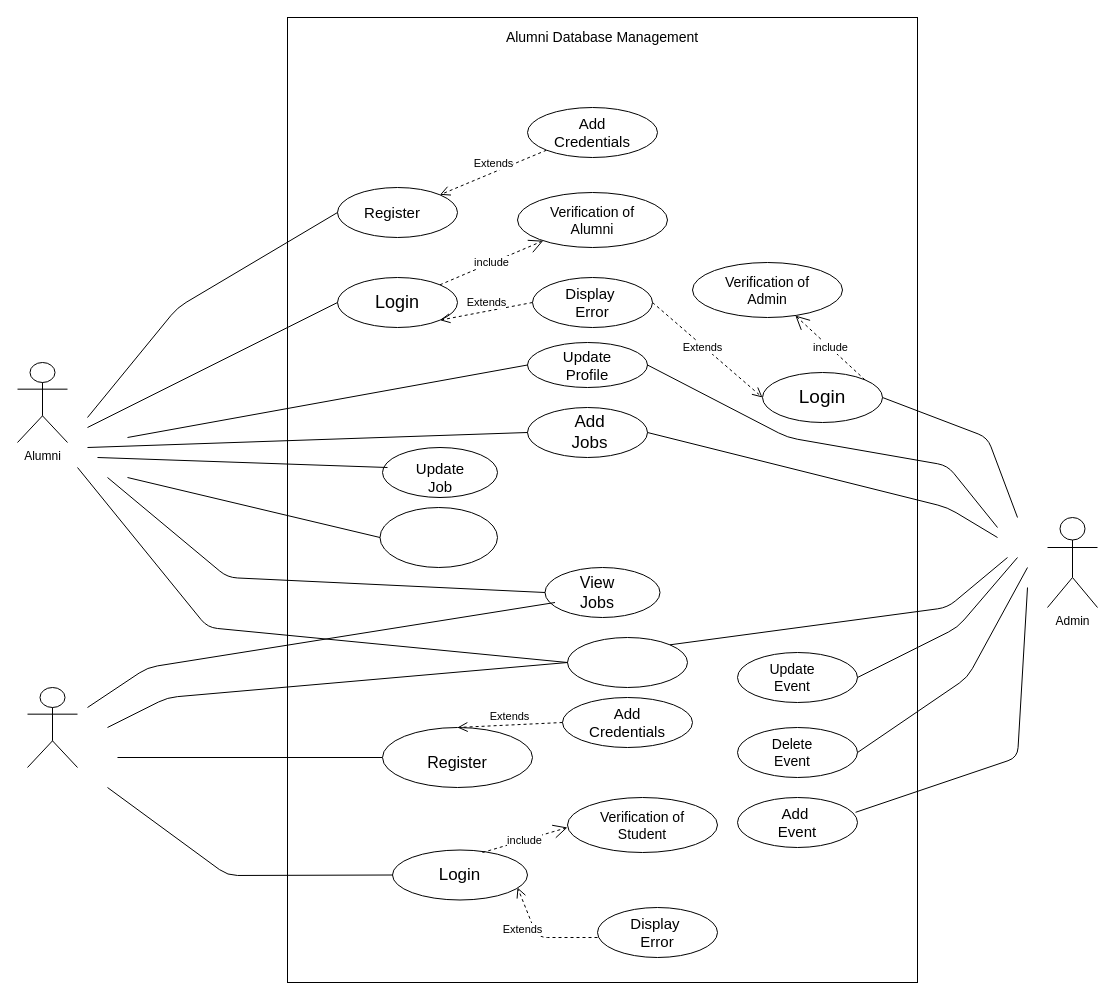
The diagram is 1115 pixels wide and 1000 high, and some of its shapes have lost their labels. The shapes that lost their labels are listed below. From the top down, each one's box as (x1, y1, x2, y2) in pixels, then its label:
(379, 506, 498, 568): Delete Job
(566, 636, 688, 688): View Event
(26, 686, 78, 768): Student
